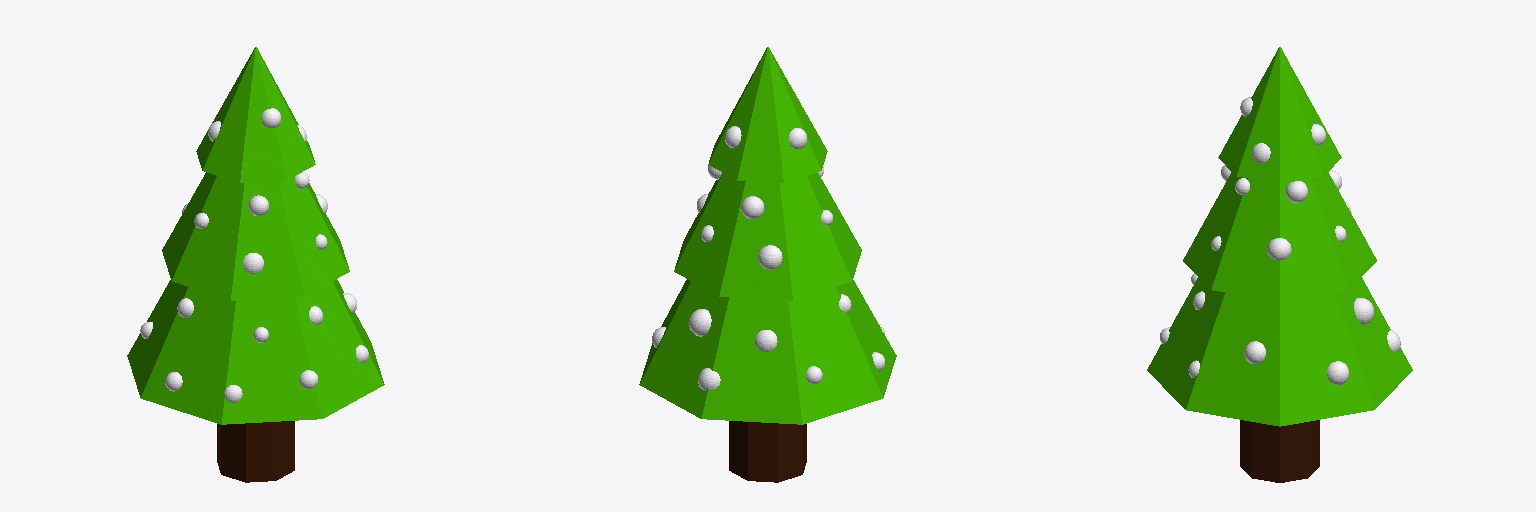
3 views of the same model, side by side, from view 1: azimuth 30°, elevation 25°; view 2: azimuth 150°, elevation 25°; view 3: azimuth 270°, elevation 25° (orthographic).
Visible parts, largest first — view 1: Cone, Cone_001, Cone_002, Cylinder; view 2: Cone, Cone_001, Cone_002, Cylinder; view 3: Cone, Cone_001, Cone_002, Cylinder.
Boxes of the visible parts, x1,y1,x2,y2 form: Cone: [127, 279, 384, 424]; Cone_001: [162, 172, 349, 300]; Cone_002: [196, 47, 315, 182]; Cylinder: [217, 421, 294, 482]; Cone: [639, 279, 896, 424]; Cone_001: [674, 172, 861, 300]; Cone_002: [708, 47, 827, 182]; Cylinder: [729, 421, 806, 482]; Cone: [1147, 277, 1412, 426]; Cone_001: [1183, 172, 1376, 301]; Cone_002: [1218, 47, 1341, 183]; Cylinder: [1240, 420, 1319, 482].
Size of the model in its own units: 2.27 by 3.96 by 2.27.
Materials: 3 (3 with a texture image).